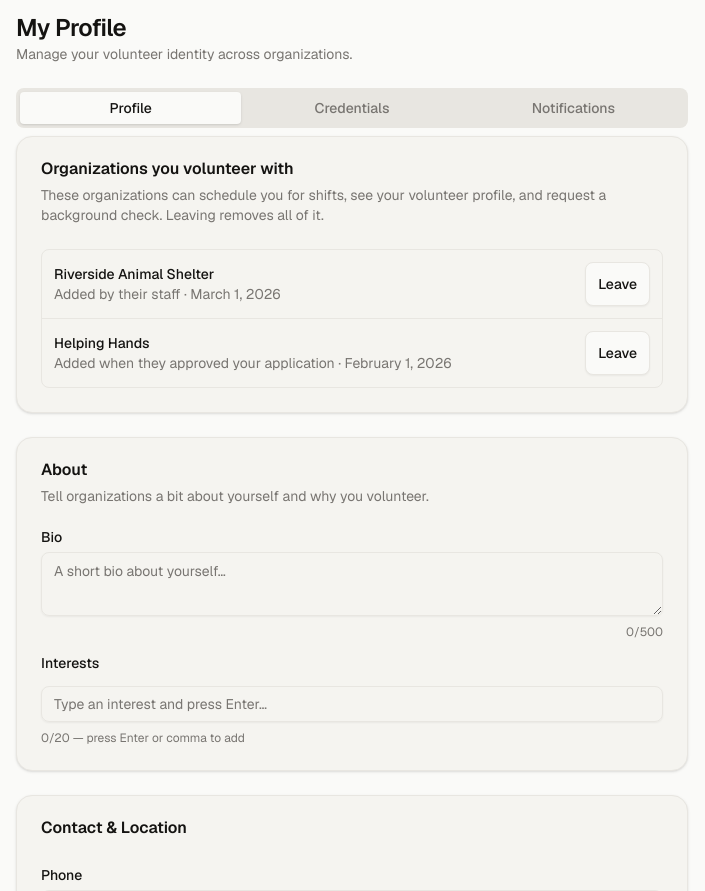
Test: OrgMemberships — confirm then leave › the first click confirms rather than leaving, and states what access is lost
Click the button with aria-label "Leave: Riverside Animal Shelter" at (618, 284), box [585,262,650,306]
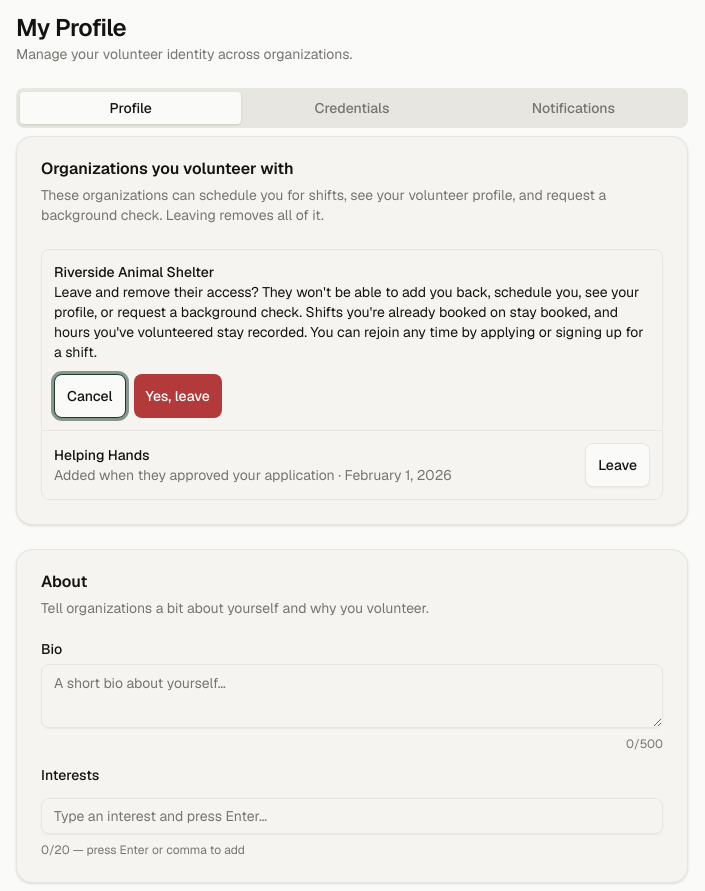
Result: the button with aria-label "Yes, leave: Riverside Animal Shelter" is shown at [134,374,222,418]
Result: the text "Leave and remove their access? They won't be able to add you back, schedule you, see your profile, or request a backgrou" is shown at [54,283,644,361]
